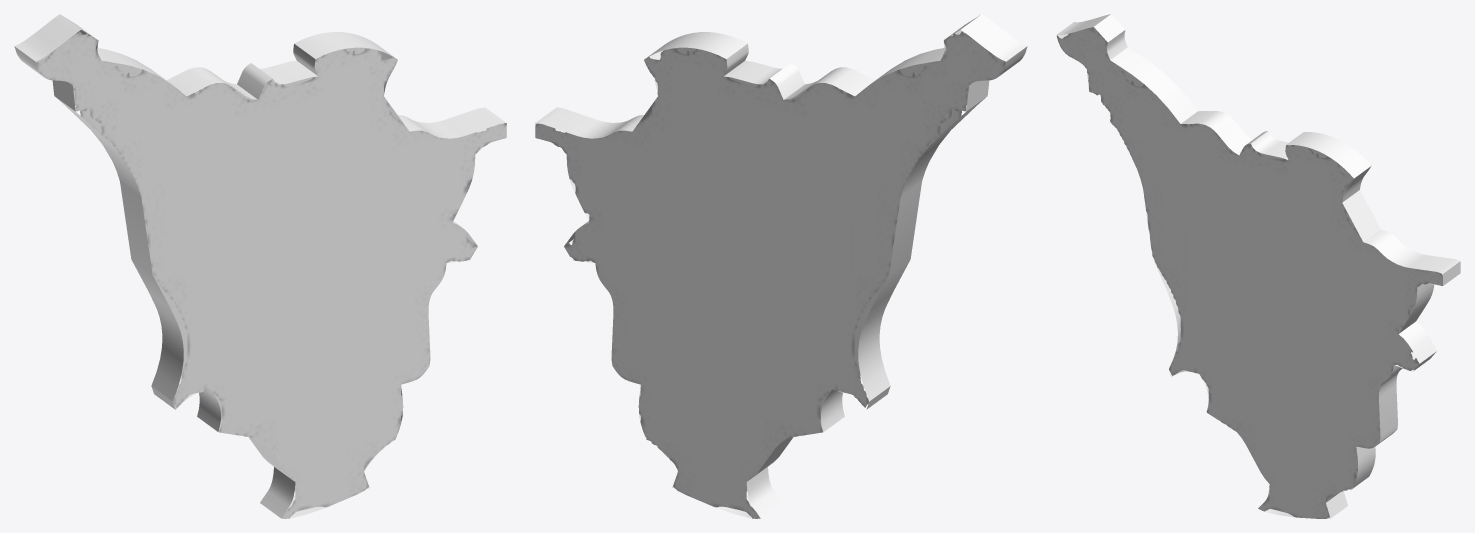
Rendered from Toscana.OBJ.
The picture shows the model from 3 angles, left to right: view 1: azimuth 30°, elevation 25°; view 2: azimuth 150°, elevation 25°; view 3: azimuth 330°, elevation 25°; orthographic projection. The views are drawn at different scales.
Bounding box in the file's own units: 165 × 181 × 13.
3 materials, 3 textured.
